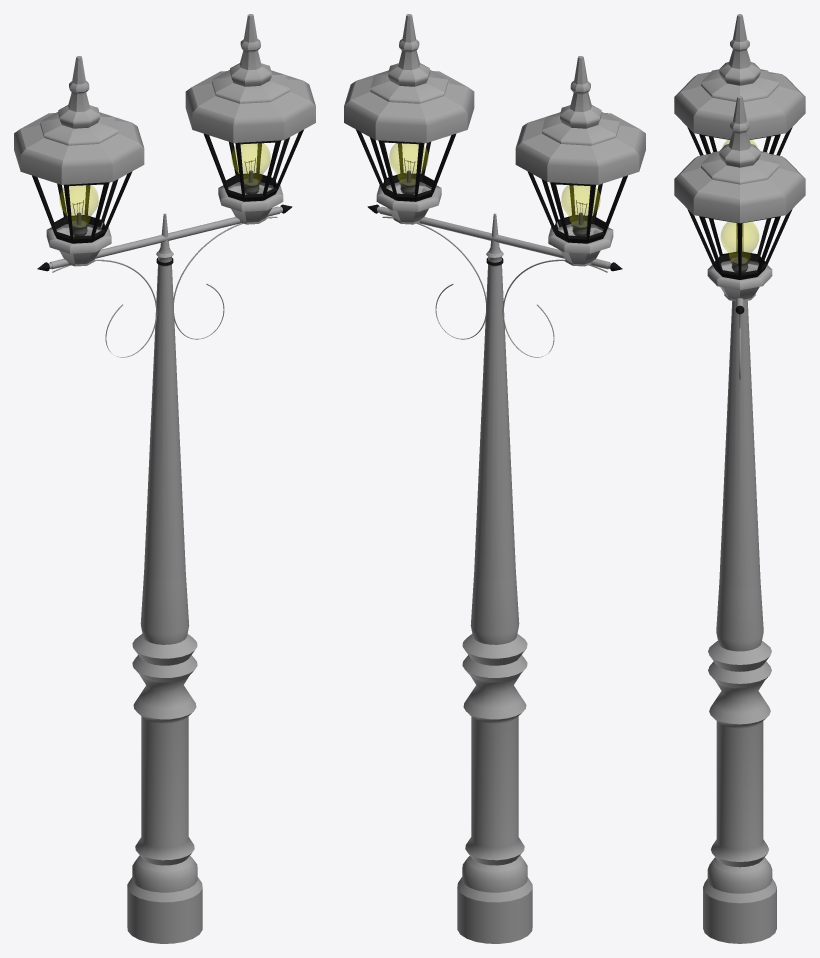
The model's file is Laterne2+Birne.fbx.
3 views of the same model, side by side, from view 1: azimuth 30°, elevation 25°; view 2: azimuth 150°, elevation 25°; view 3: azimuth 270°, elevation 25° (orthographic). The views are drawn at different scales.
Visible parts, largest first — view 1: pCylinder10; view 2: pCylinder10; view 3: pCylinder10.
Part boxes in pixels (<box>): pCylinder10: <box>14,14,315,943</box>; pCylinder10: <box>344,14,645,943</box>; pCylinder10: <box>674,14,805,943</box>.
Size of the model in its own units: 282 by 831 by 113.
